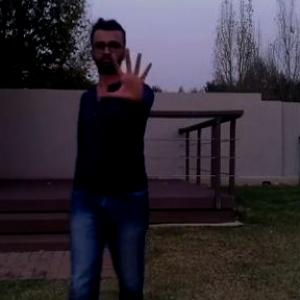follow_hand: (96, 44, 156, 104)
